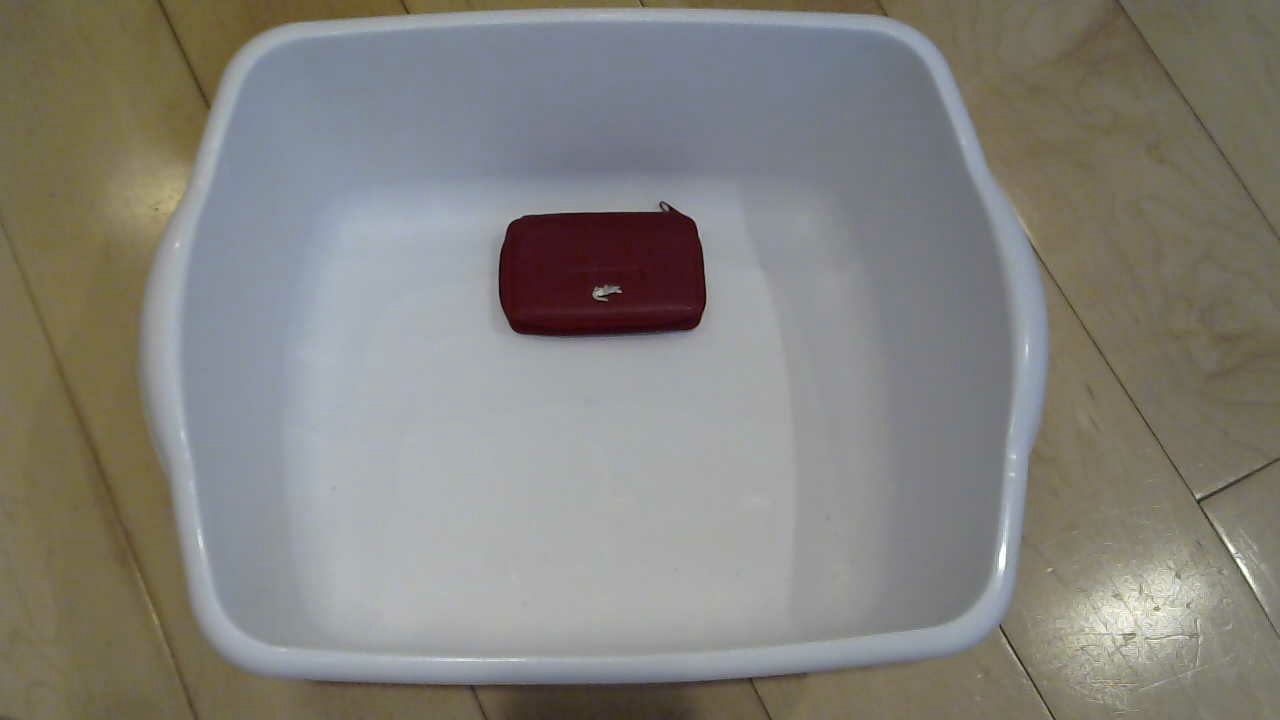wallet: (474, 175, 731, 367)
